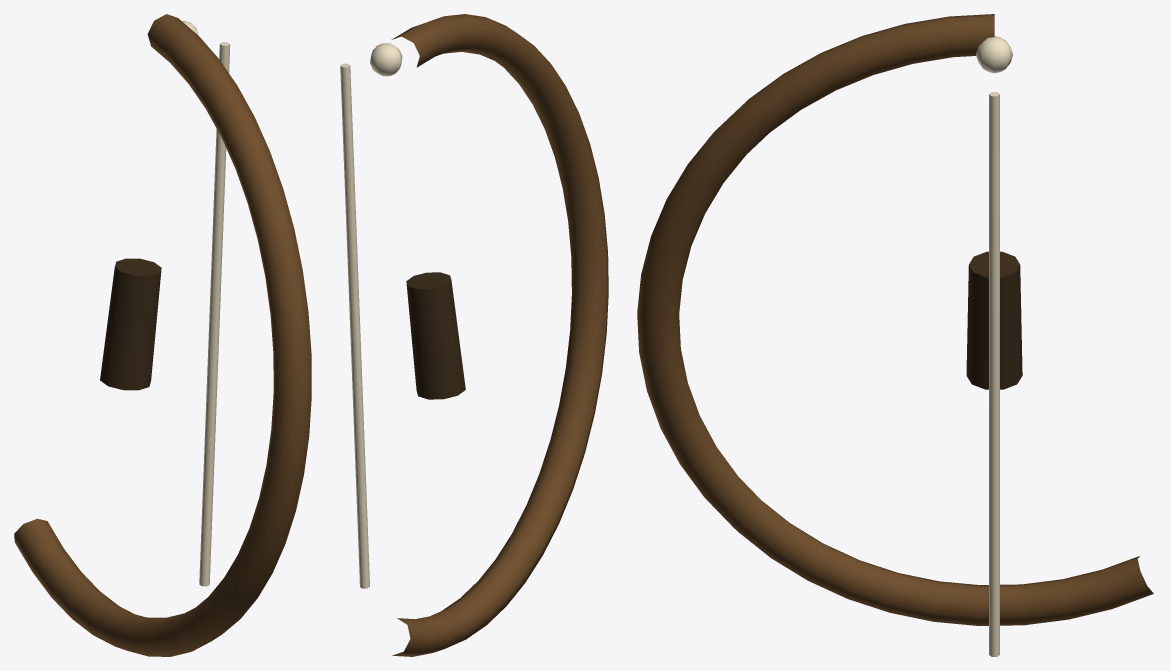
Rendered from weapon_bow.glb.
3 renders of one model, left to right at view 1: azimuth 30°, elevation 25°; view 2: azimuth 150°, elevation 25°; view 3: azimuth 270°, elevation 25°, orthographic. The views are drawn at different scales.
Visible parts, largest first — view 1: blade_mesh, weapon_grip, weapon_bow; view 2: blade_mesh, weapon_grip, weapon_bow, weapon_rune; view 3: blade_mesh, weapon_bow, weapon_grip, weapon_rune.
Part boxes in pixels (x1=…): blade_mesh: x1=14, y1=14, x2=311, y2=656; weapon_grip: x1=100, y1=258, x2=161, y2=390; weapon_bow: x1=199, y1=42, x2=230, y2=586; blade_mesh: x1=391, y1=14, x2=608, y2=656; weapon_grip: x1=406, y1=272, x2=465, y2=399; weapon_bow: x1=340, y1=63, x2=369, y2=588; weapon_rune: x1=370, y1=43, x2=402, y2=76; blade_mesh: x1=637, y1=14, x2=1153, y2=625; weapon_bow: x1=989, y1=92, x2=999, y2=656; weapon_grip: x1=966, y1=251, x2=1022, y2=389; weapon_rune: x1=976, y1=36, x2=1012, y2=73.
Bounding box in the file's own units: 0.3866 × 1.52 × 1.11.
